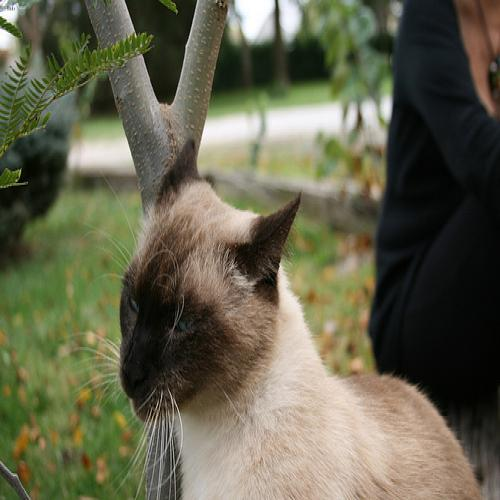siamese: (108, 142, 301, 425)
